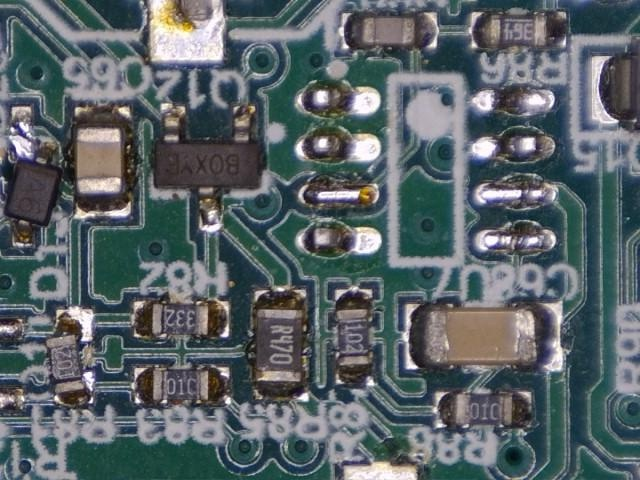pcb_defect: (1, 102, 64, 247), (44, 306, 96, 406)
